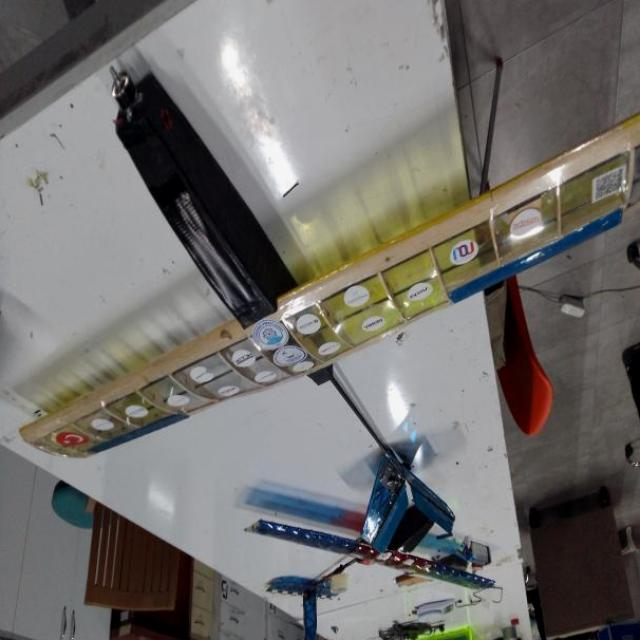plane: (18, 62, 640, 556), (242, 519, 497, 640)
